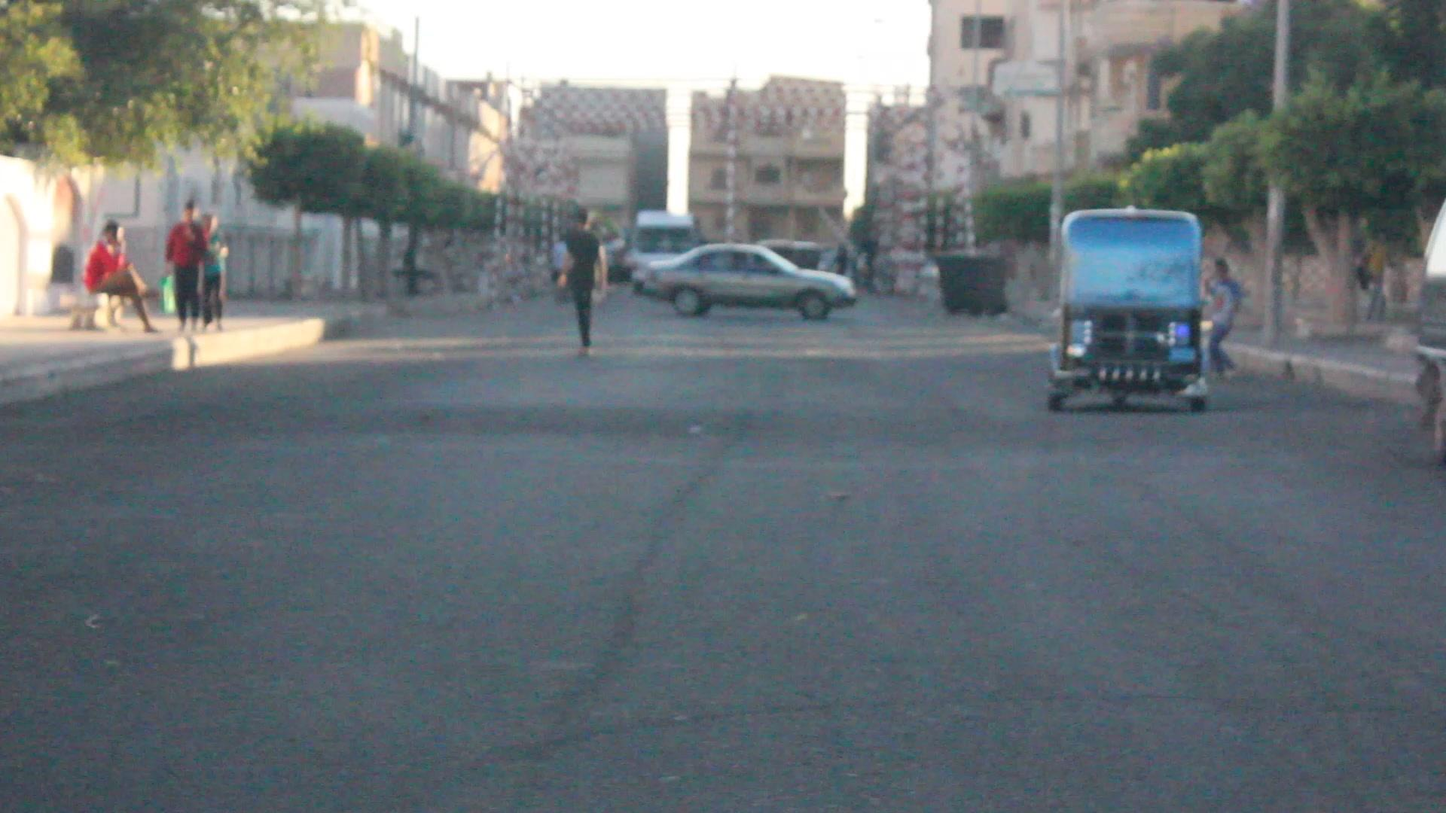Bump: (0, 393, 1446, 472)
